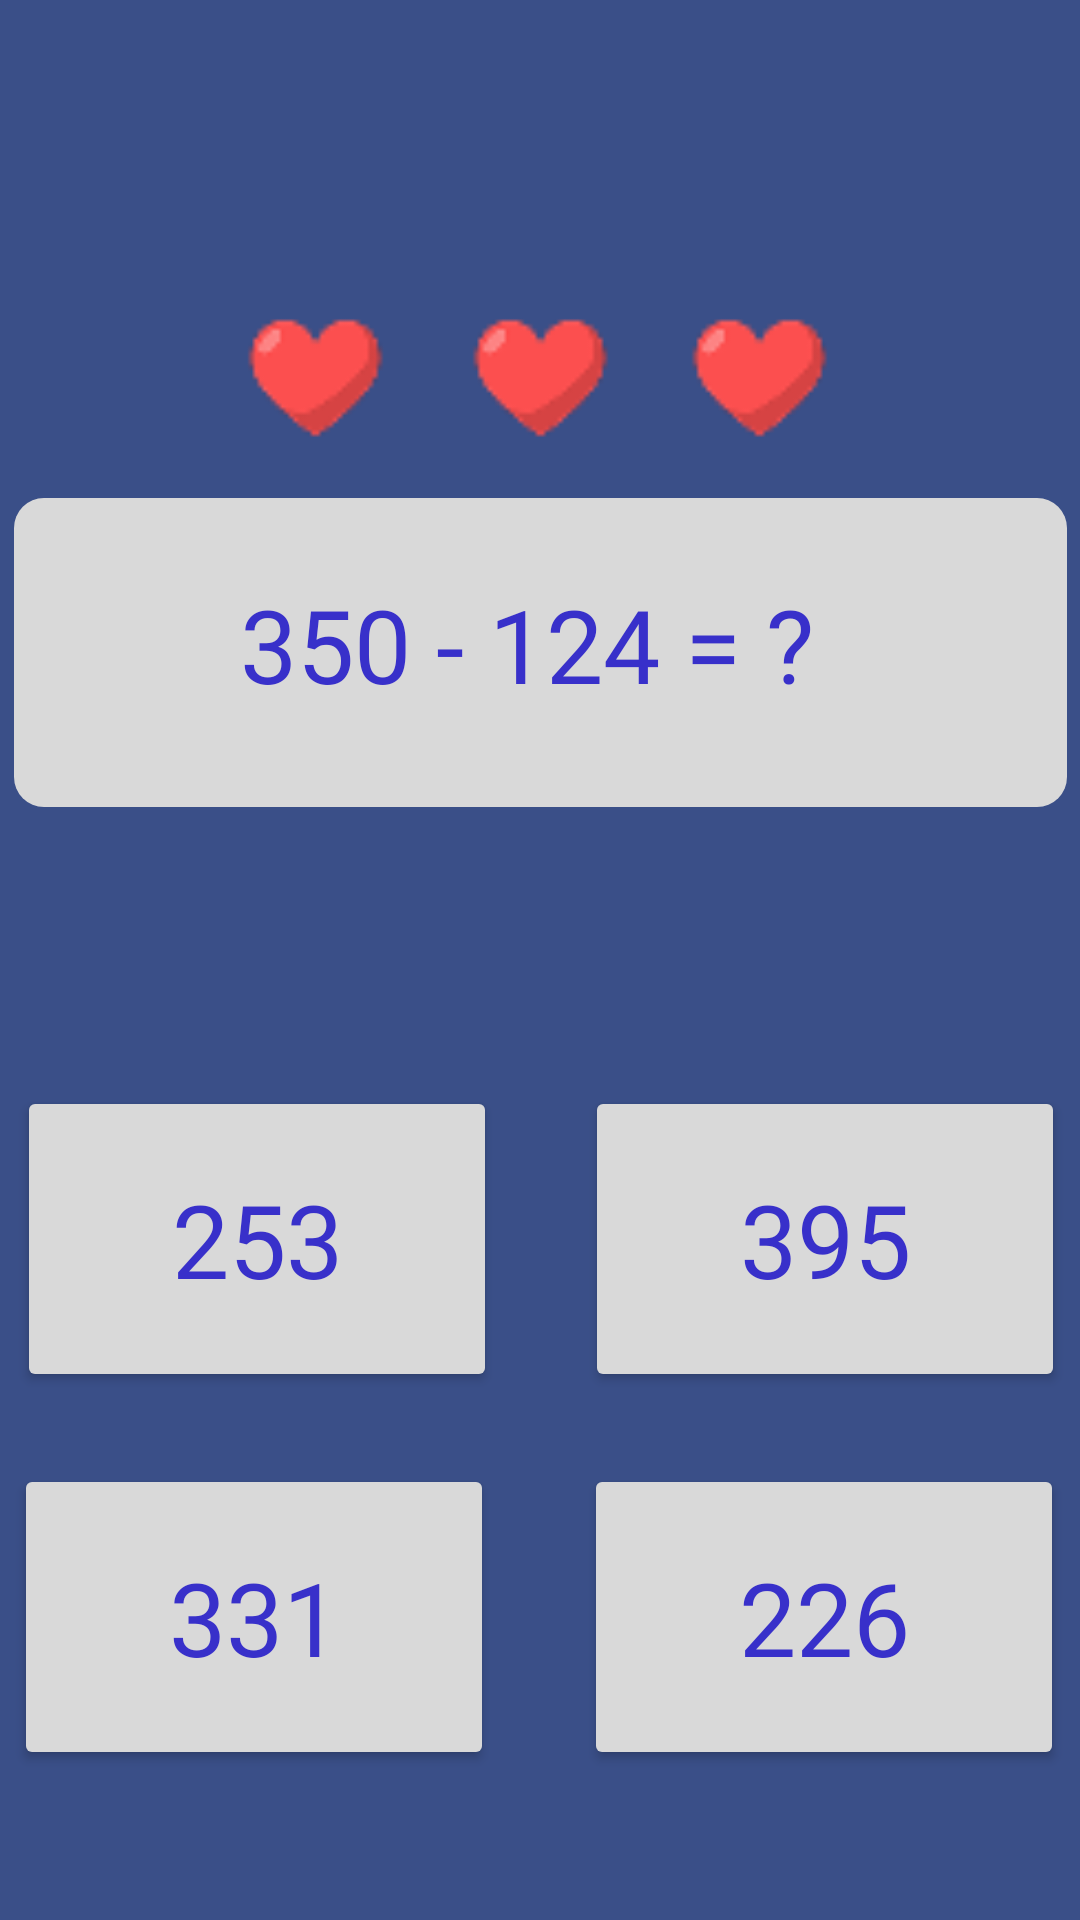

Icon bounding boxes for this 1080px×1920px phone screenshot, format (x1, y1, x2, y2):
hati: (248, 319, 383, 437), (473, 319, 608, 437), (692, 319, 827, 437)
